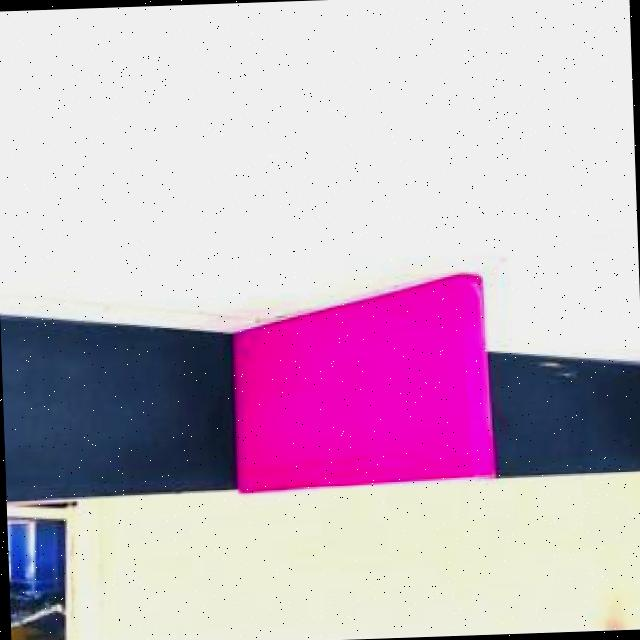xparking: (238, 301, 492, 490)
